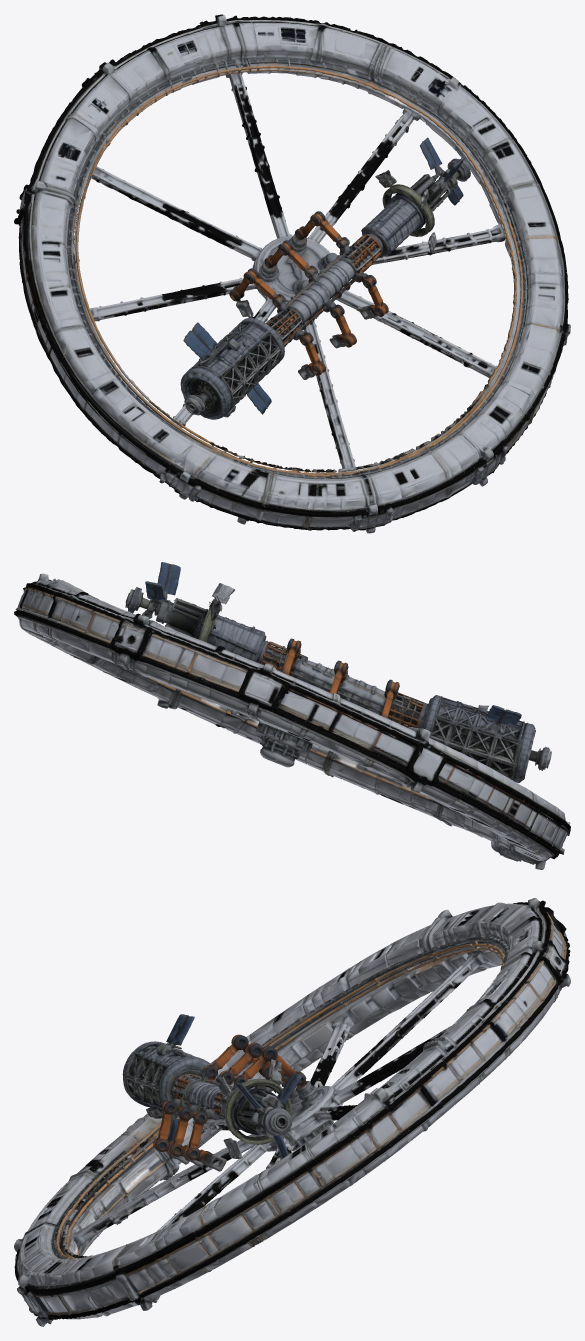
The model's file is station_rotating_opt.glb.
3 renders of one model, top to bottom at view 1: azimuth 30°, elevation 25°; view 2: azimuth 150°, elevation 25°; view 3: azimuth 270°, elevation 25°, orthographic. The views are drawn at different scales.
Parts seen in each view (by area): view 1: world; view 2: world; view 3: world.
Boxes of the visible parts, x1,y1,x2,y2 form: world: (14, 14, 570, 533); world: (14, 562, 570, 869); world: (14, 898, 570, 1326).
Size of the model in its own units: 1 by 0.6836 by 0.8993.
1 material, 1 textured.
